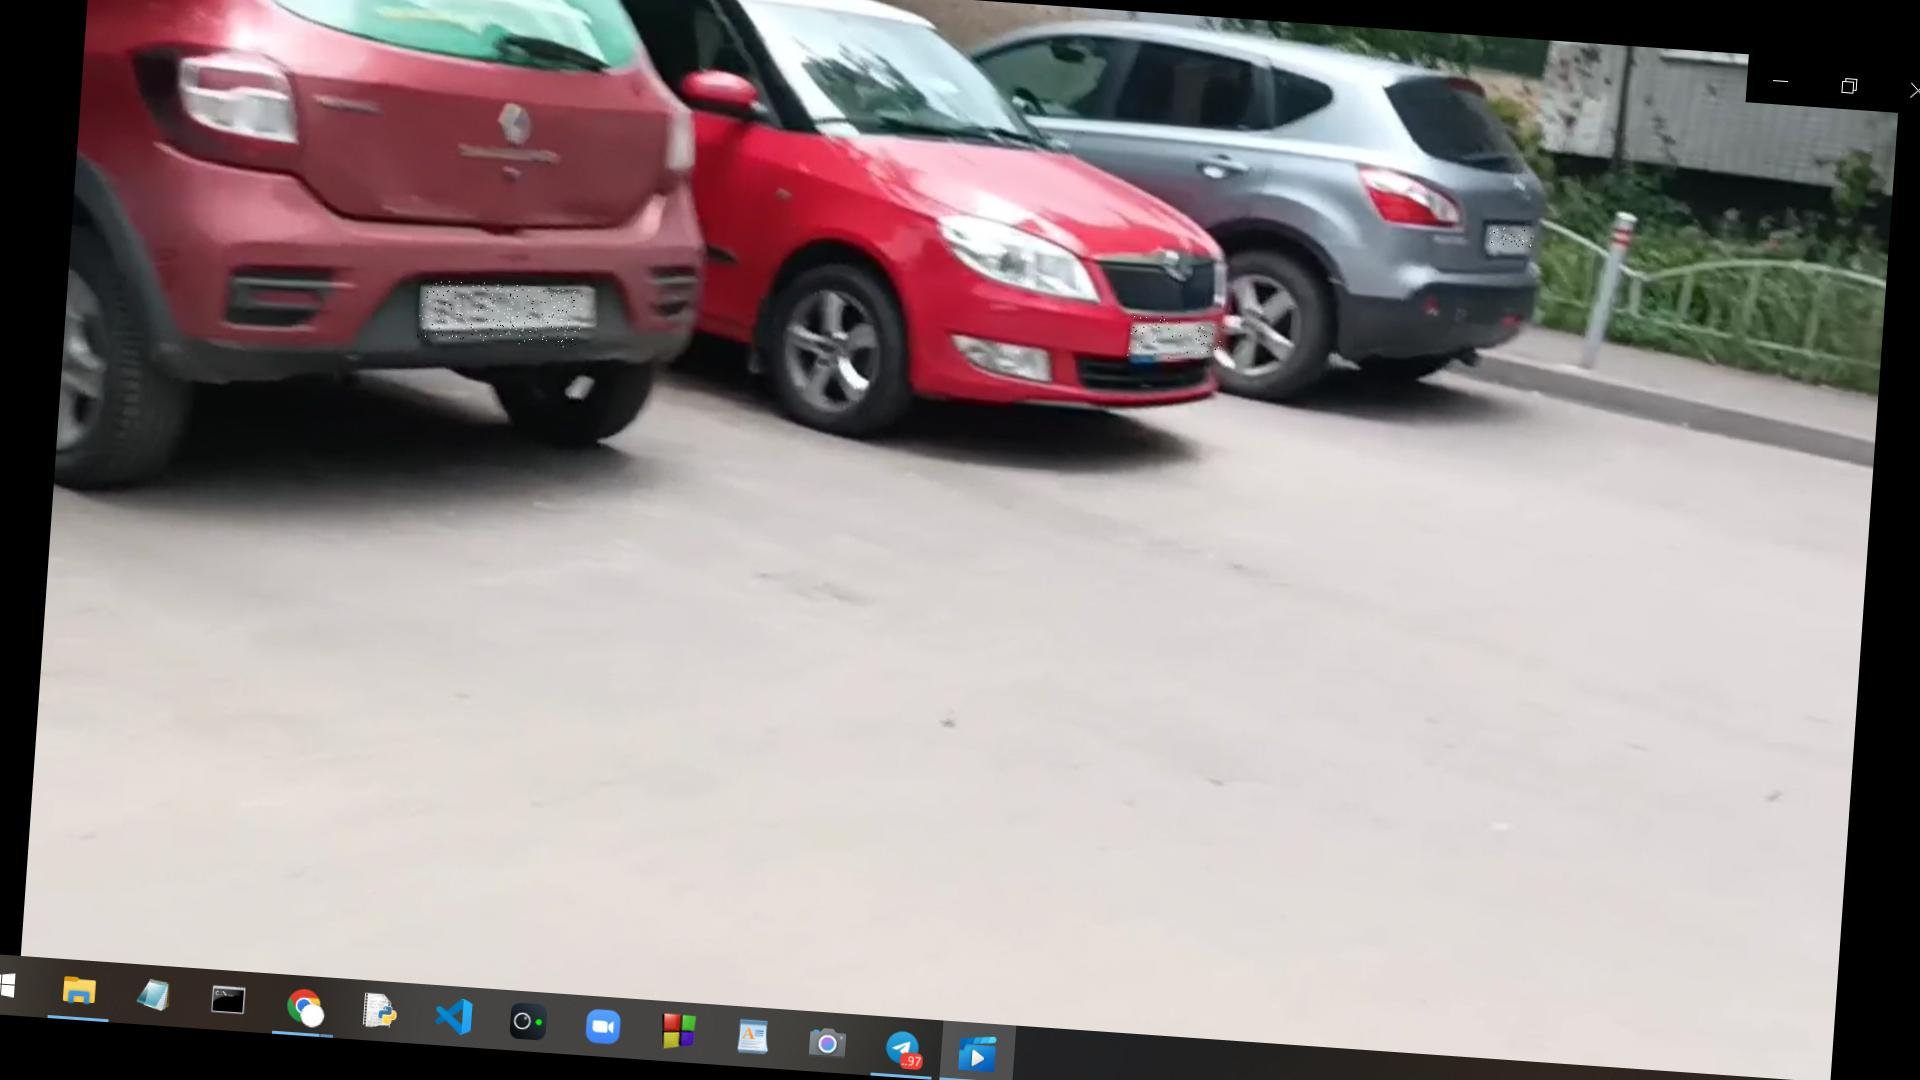plate: (419, 280, 585, 350), (1129, 315, 1226, 365), (1491, 228, 1538, 249)
